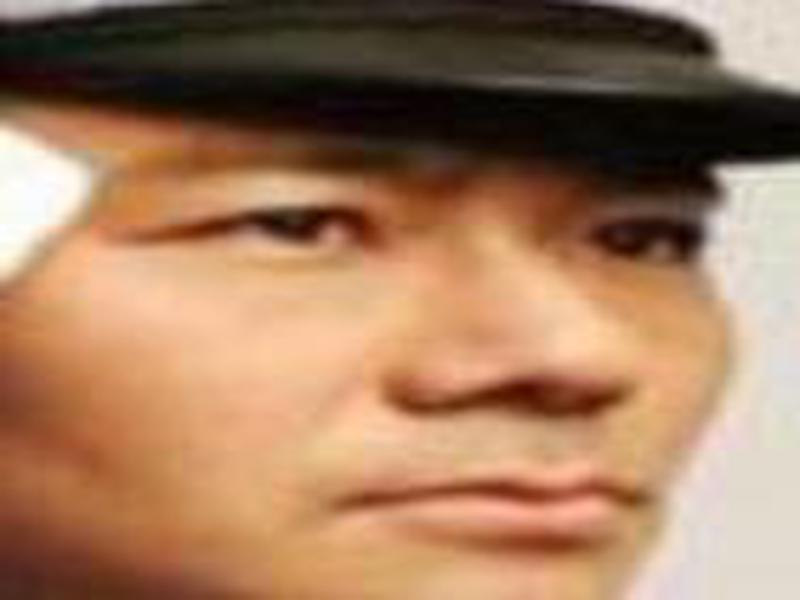without_mask: (4, 108, 729, 600)
